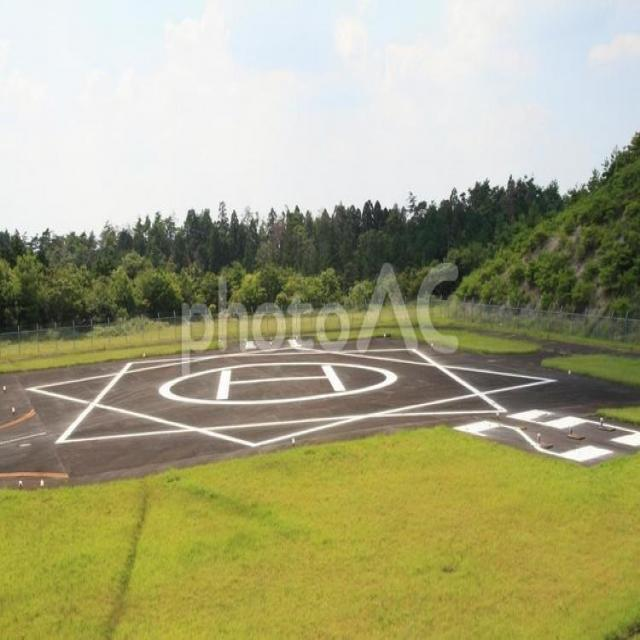helipad: (153, 356, 399, 406)
